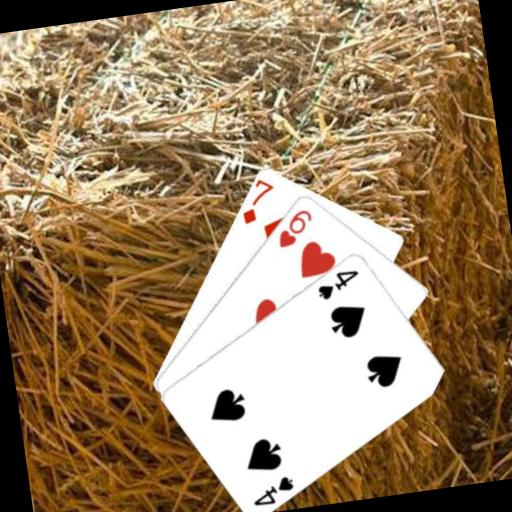4S: (247, 471, 298, 509), (312, 266, 363, 303)
6H: (271, 206, 317, 250)
7D: (234, 175, 280, 227)
